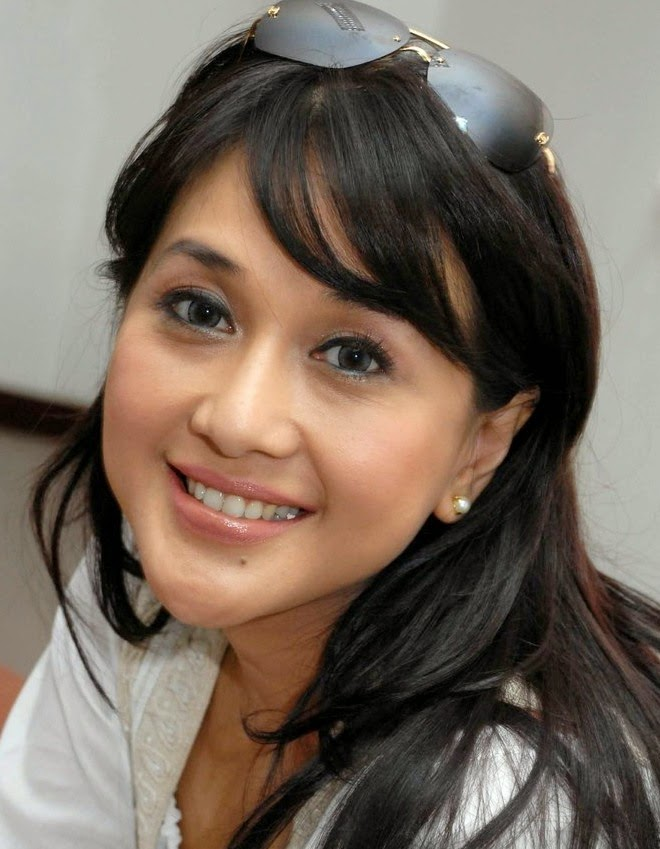tahilalat: (237, 556, 249, 568)
